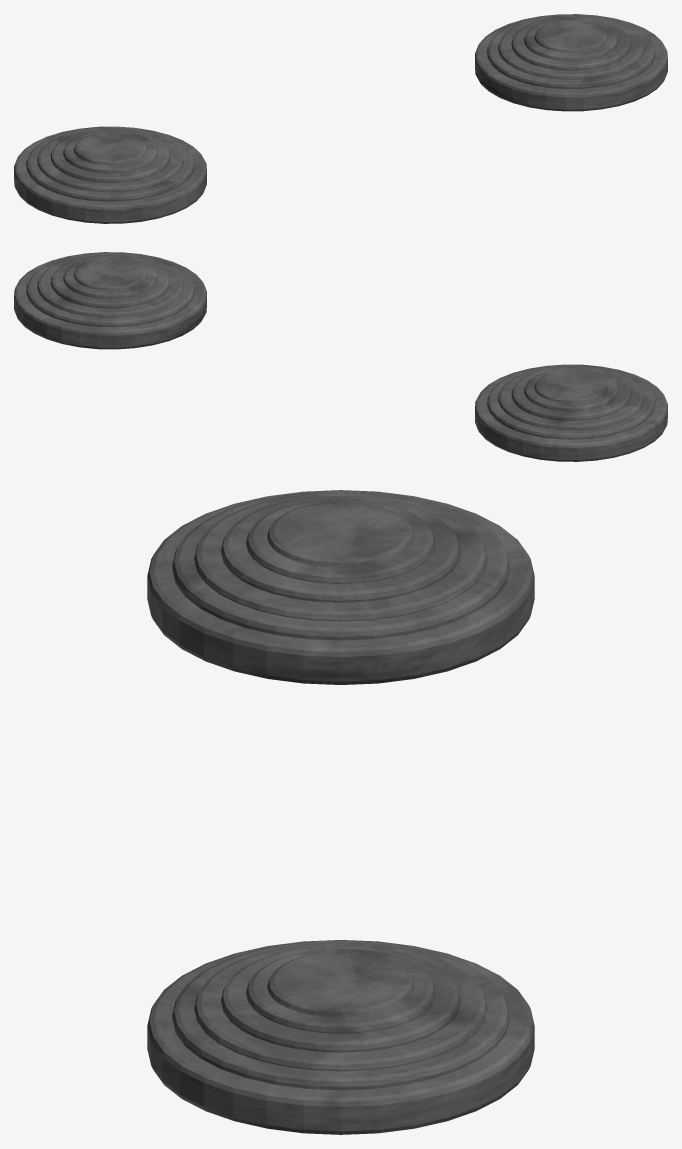
The model's file is Bath stairs.fbx.
The picture shows the model from 3 angles, top to bottom: view 1: azimuth 30°, elevation 25°; view 2: azimuth 150°, elevation 25°; view 3: azimuth 270°, elevation 25°; orthographic projection. The views are drawn at different scales.
Visible parts, largest first — view 1: Bath stairs sides; view 2: Bath stairs sides; view 3: Bath stairs sides.
Part boxes in pixels (x1,y1,x2,y2): Bath stairs sides: (14, 14, 667, 223); Bath stairs sides: (14, 252, 667, 461); Bath stairs sides: (147, 490, 534, 1134).
Size of the model in its own units: 2129 by 122 by 568.
